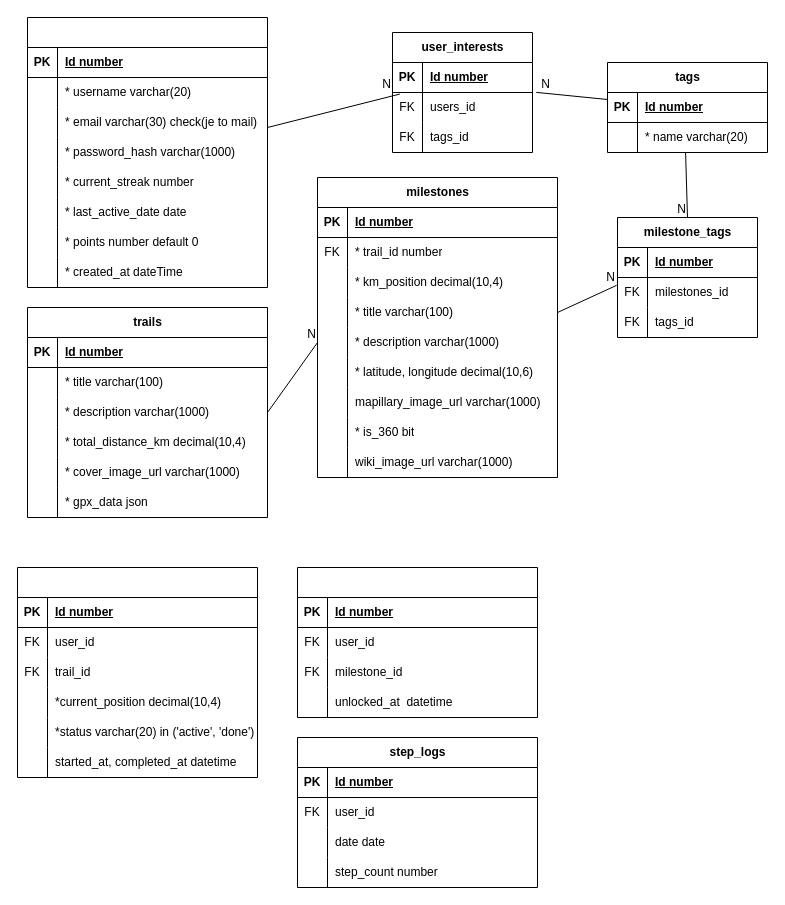
The diagram is 785 pixels wide and 905 high, and some of its shapes have lost their labels. The box of each missing label's shape, as (x1, y1, x2, y2) in pixels:
unlocked_milestones: (296, 566, 538, 718)
user_trails: (16, 566, 258, 778)
users: (26, 16, 268, 288)
